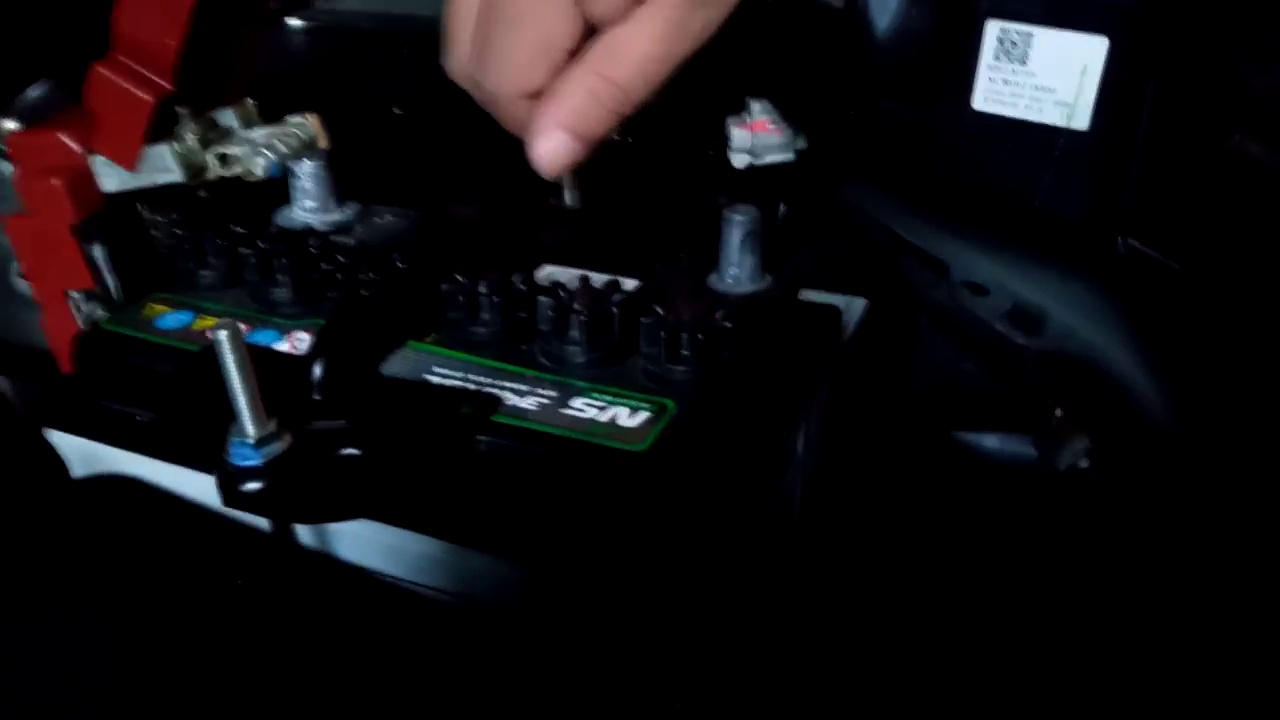battery: (77, 147, 833, 505)
neg_disconnected: (668, 169, 821, 334)
pos_disconnected: (23, 60, 346, 340)
